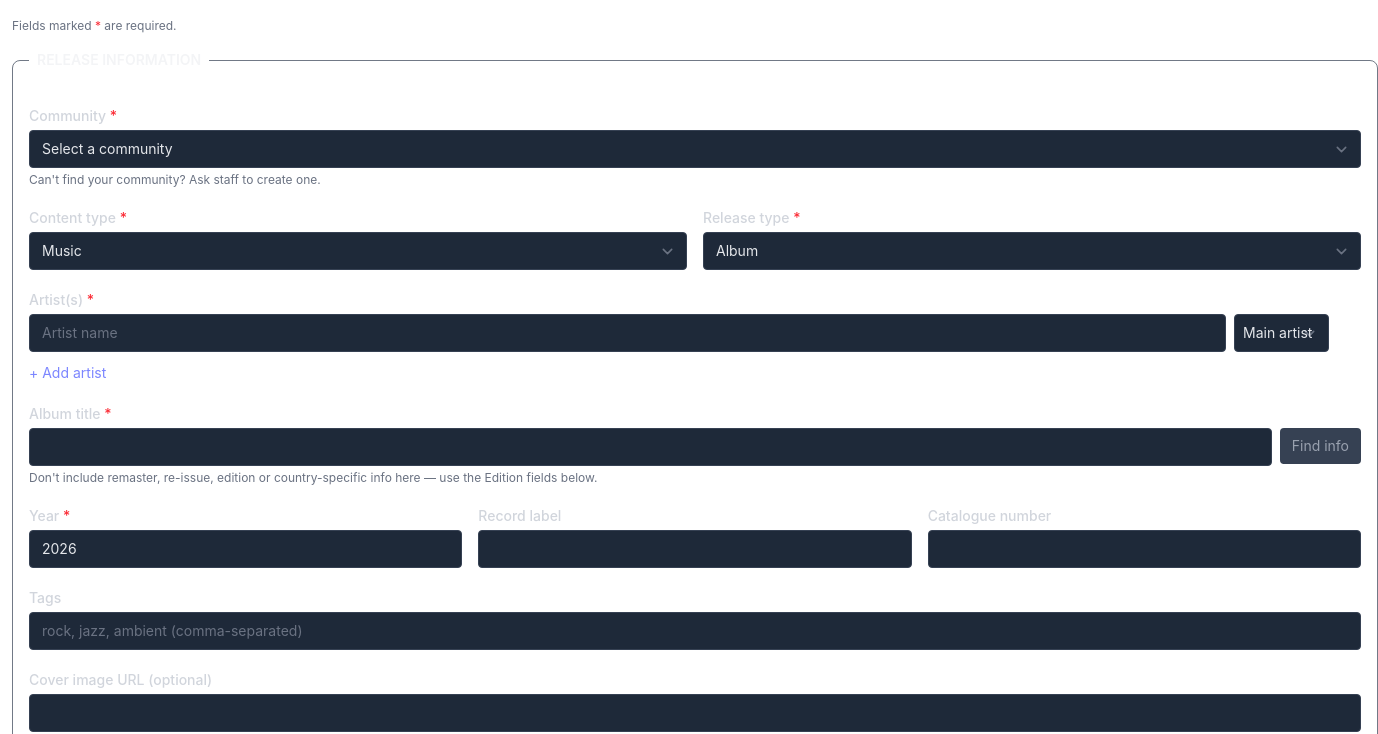
Test: ContributeForm › switches to Creator label and Description textarea on non-Music type
Select "EBooks" in the dropdown labelled "Content type *": (358, 251) [29,232,687,270]
(page scrolled)
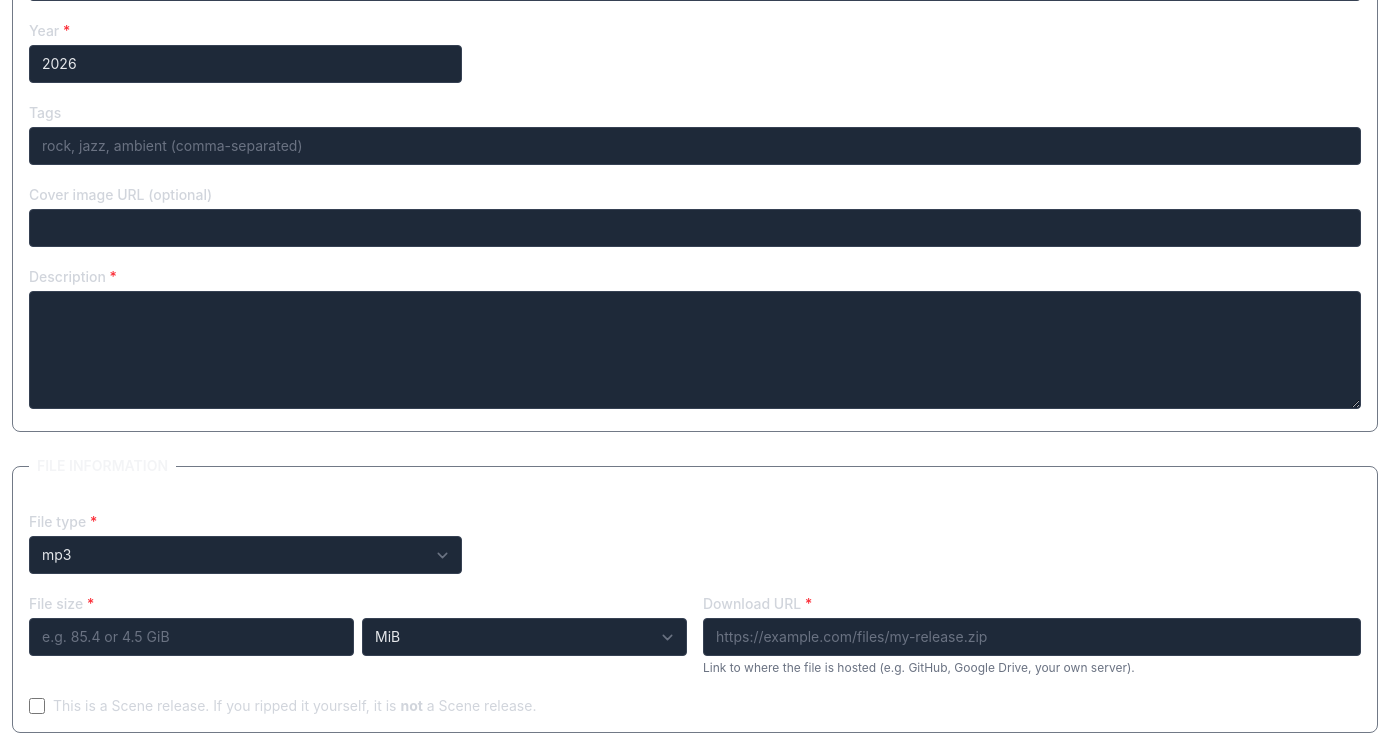
Now the text box labelled "Description *" is shown, box [29,291,1361,409]
